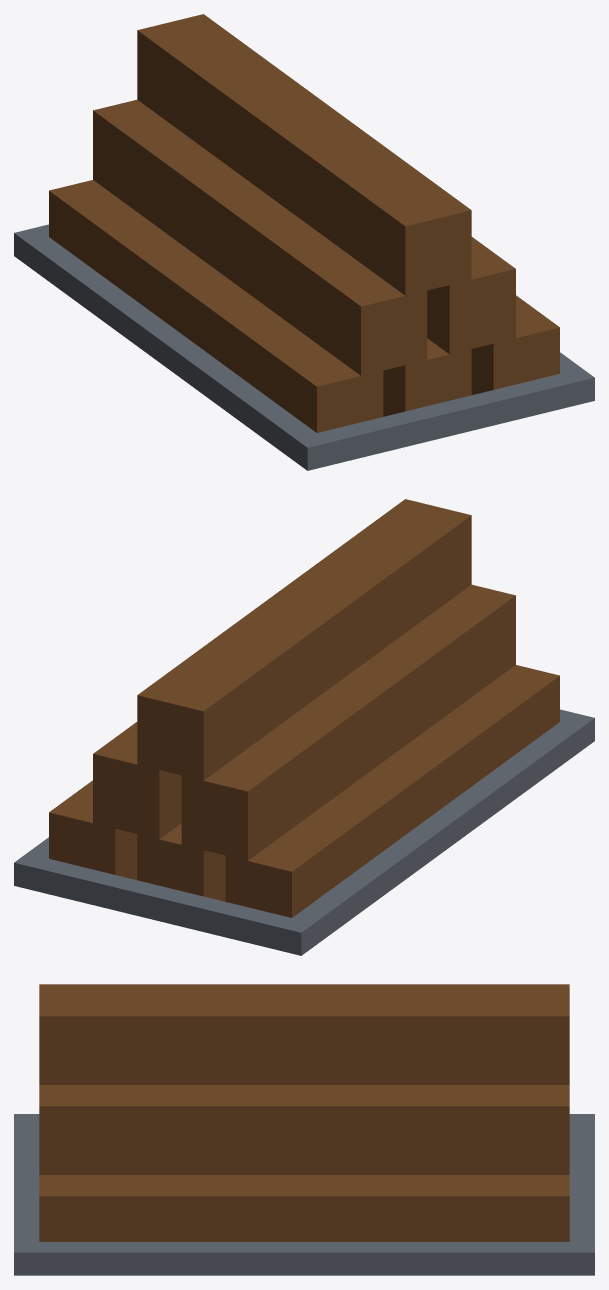
File: Log Stockage.obj
3 views of the same model, one above another, from view 1: azimuth 30°, elevation 25°; view 2: azimuth 150°, elevation 25°; view 3: azimuth 270°, elevation 25° (orthographic).
Visible parts, largest first — view 1: Model; view 2: Model; view 3: Model.
Boxes of the visible parts, x1=… form: Model: x1=14, y1=14, x2=594, y2=470; Model: x1=14, y1=499, x2=594, y2=955; Model: x1=14, y1=984, x2=594, y2=1275.
Bounding box in the file's own units: 18.09 × 12.52 × 32.
1 material, 1 textured.
